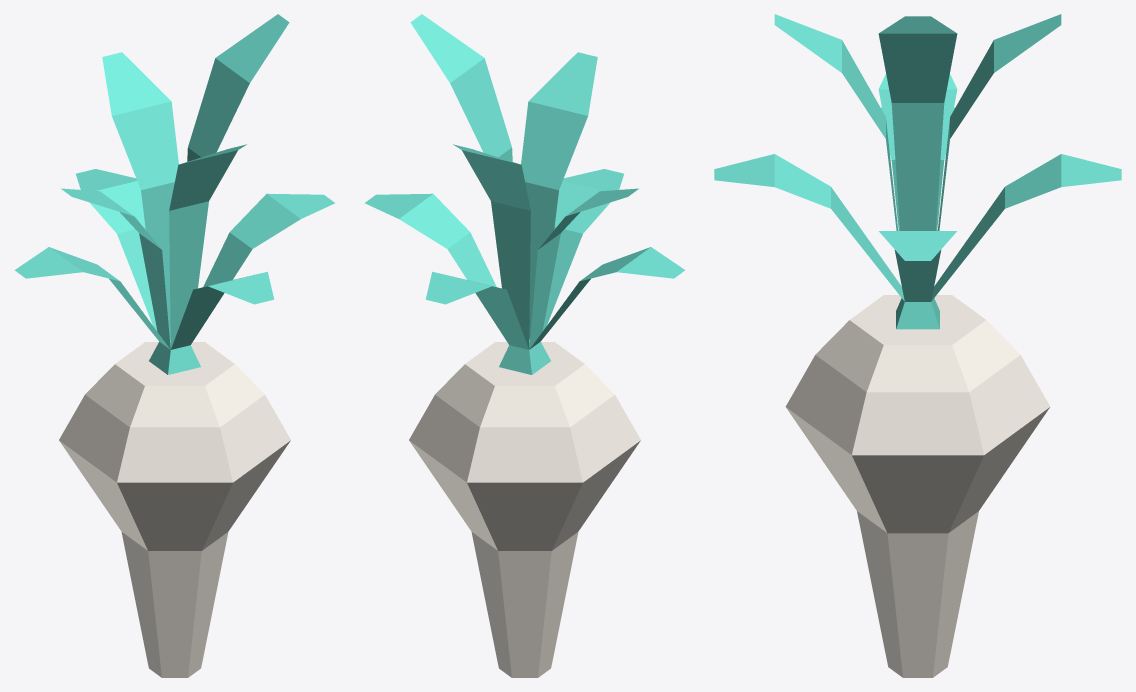
3 views of the same model, side by side, from view 1: azimuth 30°, elevation 25°; view 2: azimuth 150°, elevation 25°; view 3: azimuth 270°, elevation 25° (orthographic). The views are drawn at different scales.
Visible parts, largest first — view 1: crop_turnip; view 2: crop_turnip; view 3: crop_turnip.
Boxes of the visible parts, x1,y1,x2,y2 form: crop_turnip: (14, 14, 335, 677); crop_turnip: (364, 14, 685, 677); crop_turnip: (714, 14, 1121, 677).
Bounding box in the file's own units: 0.3431 × 0.6607 × 0.3431.
